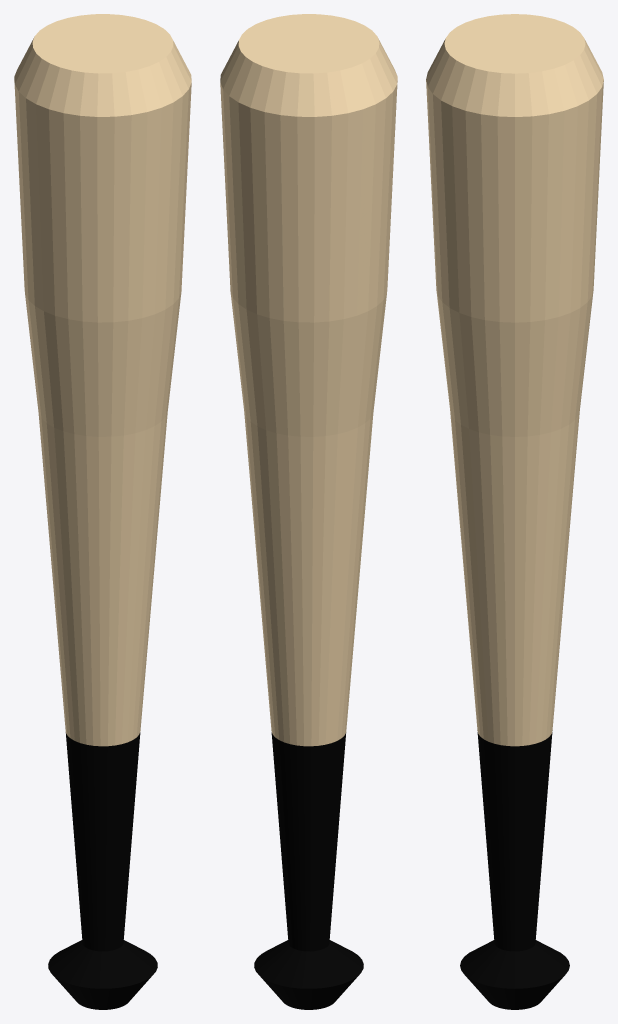
Rendered from baseballbat.gltf.glb.
3 views of the same model, side by side, from view 1: azimuth 30°, elevation 25°; view 2: azimuth 150°, elevation 25°; view 3: azimuth 270°, elevation 25° (orthographic).
Visible parts, largest first — view 1: 円柱; view 2: 円柱; view 3: 円柱.
Part boxes in pixels (x1,y1,x2,y2): 円柱: (14,14,191,1009); 円柱: (220,14,397,1009); 円柱: (426,14,603,1009).
Bounding box in the file's own units: 1.18 × 6.99 × 1.18.
